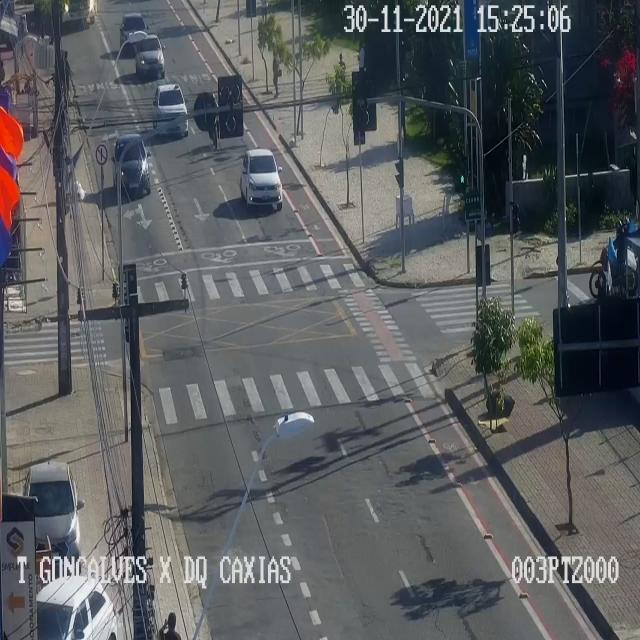Bus: (55, 0, 100, 31)
Car: (24, 462, 85, 566), (36, 575, 116, 639), (240, 147, 284, 209), (110, 134, 150, 198), (153, 83, 190, 136), (134, 33, 166, 83), (120, 12, 150, 56)
Motorcycle: (589, 221, 637, 298), (208, 84, 226, 154)
